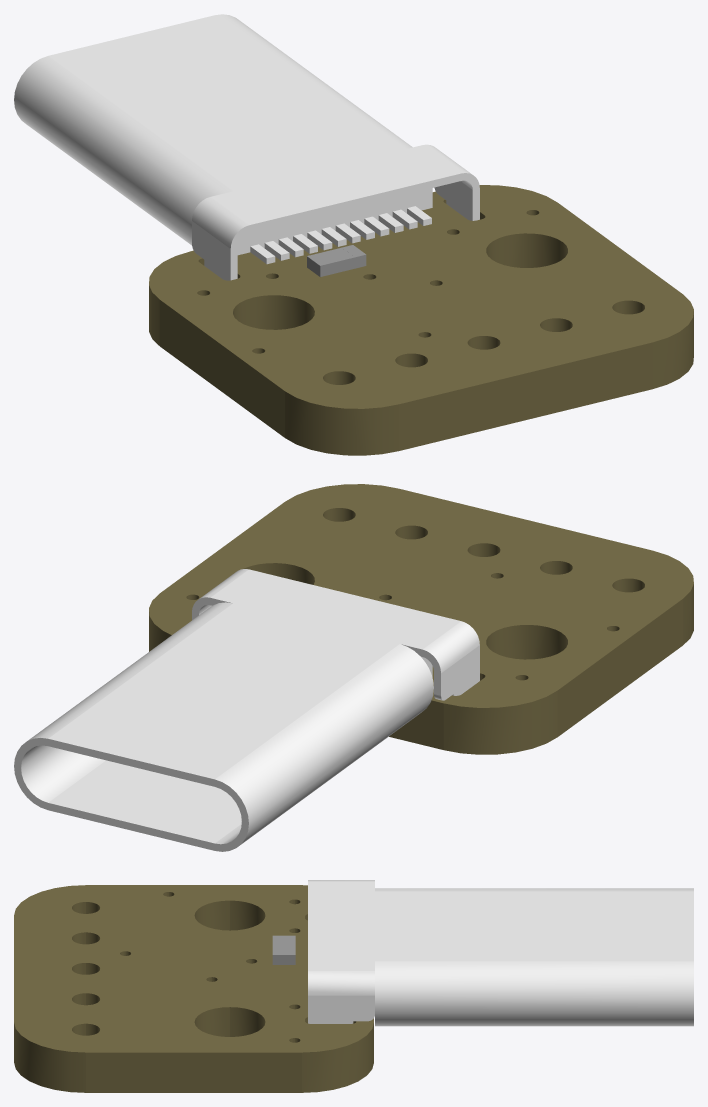
Rendered from ada-5978.glb.
3 views of the same model, one above another, from view 1: azimuth 30°, elevation 25°; view 2: azimuth 150°, elevation 25°; view 3: azimuth 270°, elevation 25° (orthographic). The views are drawn at different scales.
Visible parts, largest first — view 1: 0.16666666666666666_0.16666666666666666_0.08333333333333333_, 0.9166666666666666_0.9166666666666666_0.9166666666666666_0.8, 0.3333333333333333_0.3333333333333333_0.3333333333333333_0; view 2: 0.9166666666666666_0.9166666666666666_0.9166666666666666_0.8, 0.16666666666666666_0.16666666666666666_0.08333333333333333_; view 3: 0.16666666666666666_0.16666666666666666_0.08333333333333333_, 0.9166666666666666_0.9166666666666666_0.9166666666666666_0.8, 0.3333333333333333_0.3333333333333333_0.3333333333333333_0.
Boxes of the visible parts, box(x1,y1,x2,y2) form: 0.16666666666666666_0.16666666666666666_0.08333333333333333_: box(149, 185, 693, 455); 0.9166666666666666_0.9166666666666666_0.9166666666666666_0.8: box(14, 14, 479, 280); 0.3333333333333333_0.3333333333333333_0.3333333333333333_0: box(307, 245, 366, 276); 0.9166666666666666_0.9166666666666666_0.9166666666666666_0.8: box(14, 569, 479, 851); 0.16666666666666666_0.16666666666666666_0.08333333333333333_: box(149, 484, 693, 754); 0.16666666666666666_0.16666666666666666_0.08333333333333333_: box(14, 885, 373, 1092); 0.9166666666666666_0.9166666666666666_0.9166666666666666_0.8: box(308, 880, 693, 1026); 0.3333333333333333_0.3333333333333333_0.3333333333333333_0: box(272, 935, 295, 964).
Size of the model in its own units: 1.4 by 0.325 by 2.4.
